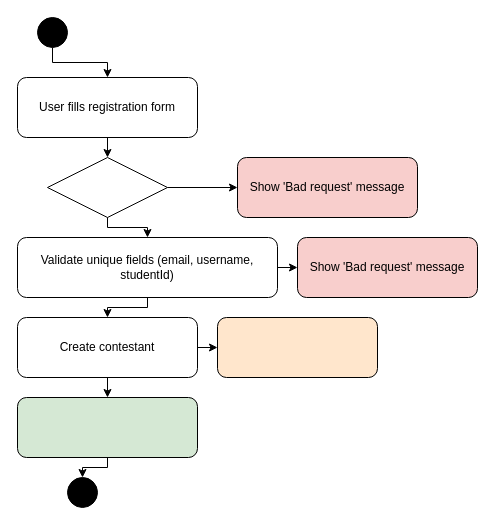
The diagram is 495 pixels wide and 525 high, and some of its shapes have lost their labels. The centre of each missing label's shape, as x and y in pixels:
Is affiliation valid?: (107,187)
Show 'Error' message: (297,347)
Show 'Success' message: (107,427)
